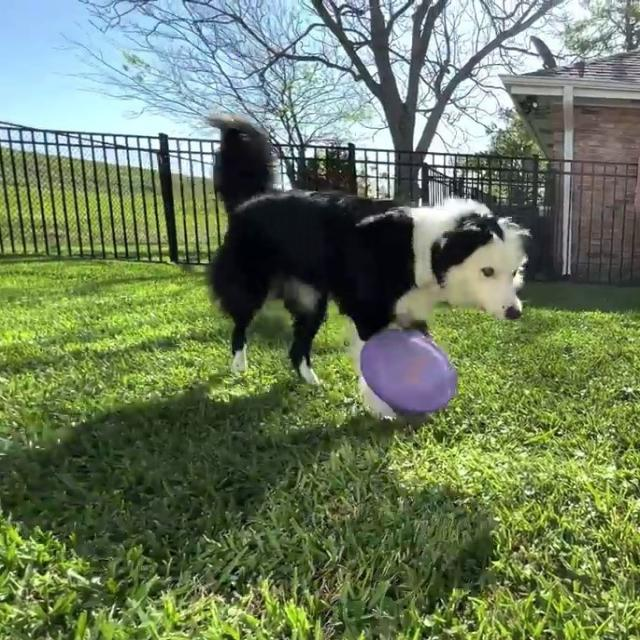Dog: (203, 112, 533, 419)
